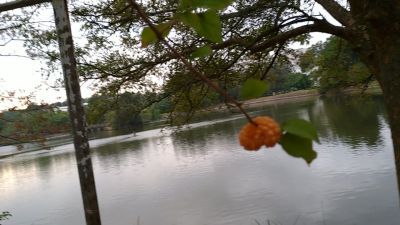eggs: (238, 115, 283, 152)
